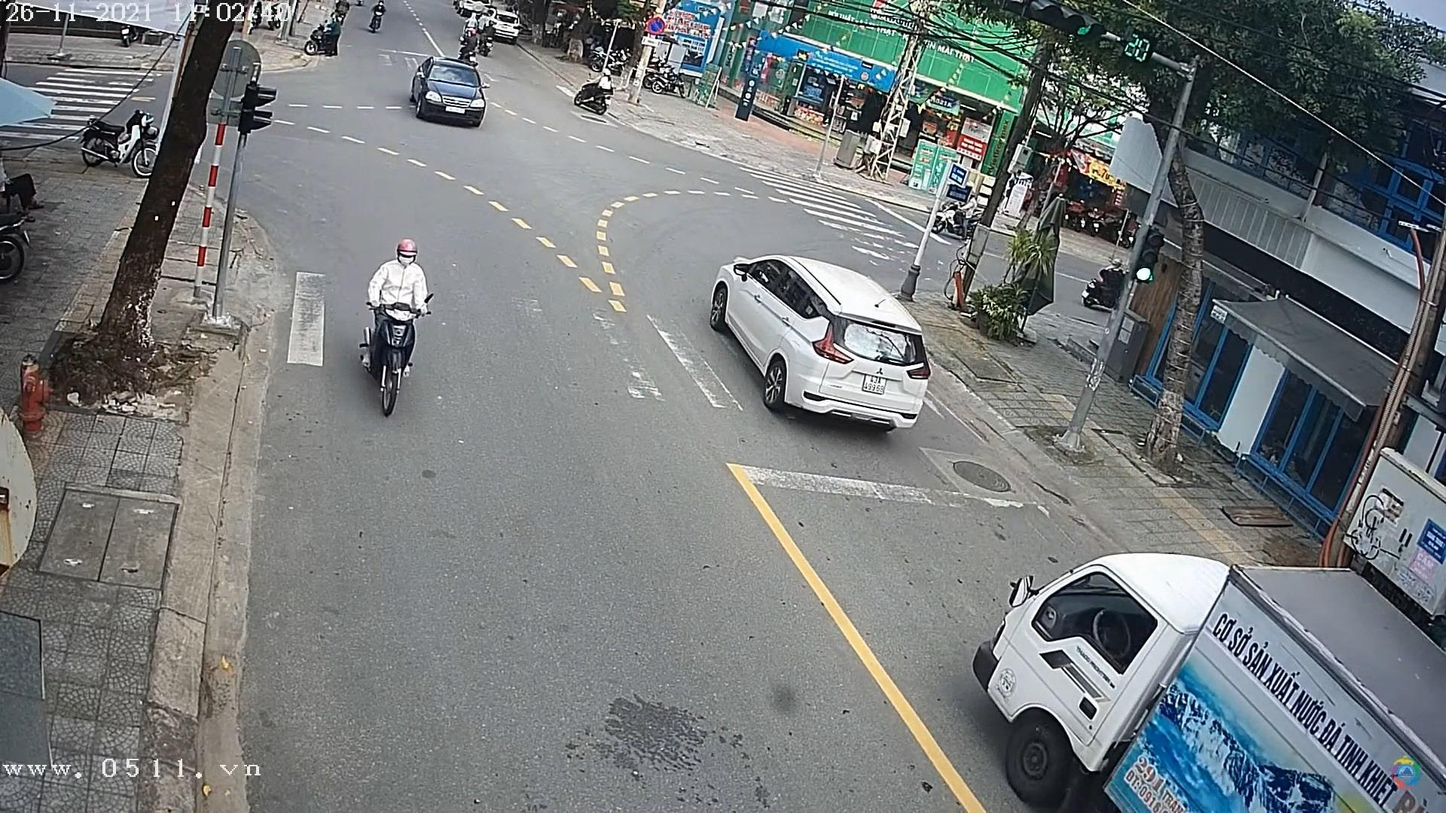car: (407, 59, 487, 127)
motorbike: (360, 294, 435, 417)
